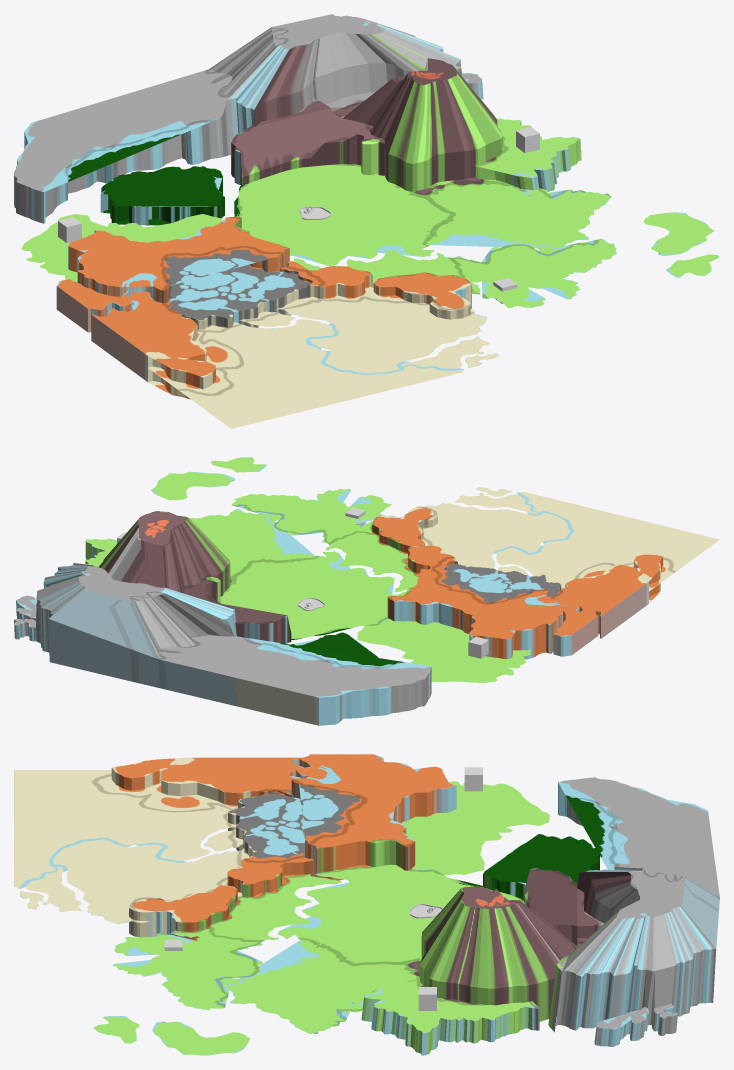
Rendered from Hyrule map .fbx.
The picture shows the model from 3 angles, top to bottom: view 1: azimuth 30°, elevation 25°; view 2: azimuth 150°, elevation 25°; view 3: azimuth 270°, elevation 25°; orthographic projection. The views are drawn at different scales.
Parts seen in each view (by area): view 1: Plane.008, Plane.010, Plane.002, Plane.004, Plane.006, Plane.003, Plane.007, Plane.005, Plane.009; view 2: Plane.008, Plane.010, Plane.004, Plane.002, Plane.006, Plane.003, Plane.005, Plane.007, Plane.009; view 3: Plane.008, Plane.010, Plane.004, Plane.002, Plane.006, Plane.003, Plane.009, Plane.005, Plane.007.
Boxes of the visible parts, bbox=[...] form: Plane.008: bbox=[14, 14, 483, 223]; Plane.010: bbox=[21, 163, 611, 282]; Plane.002: bbox=[148, 286, 498, 428]; Plane.004: bbox=[56, 217, 471, 399]; Plane.006: bbox=[231, 58, 502, 191]; Plane.003: bbox=[294, 212, 719, 307]; Plane.007: bbox=[100, 166, 224, 225]; Plane.005: bbox=[168, 264, 310, 329]; Plane.009: bbox=[475, 118, 581, 191]; Plane.008: bbox=[14, 563, 431, 725]; Plane.010: bbox=[190, 508, 530, 682]; Plane.004: bbox=[371, 506, 663, 659]; Plane.002: bbox=[422, 487, 719, 591]; Plane.006: bbox=[98, 511, 291, 643]; Plane.003: bbox=[151, 457, 418, 592]; Plane.005: bbox=[446, 563, 561, 596]; Plane.007: bbox=[291, 632, 378, 657]; Plane.009: bbox=[85, 538, 116, 566]; Plane.008: bbox=[548, 777, 719, 1046]; Plane.010: bbox=[228, 781, 549, 1033]; Plane.004: bbox=[111, 754, 456, 940]; Plane.002: bbox=[14, 770, 249, 924]; Plane.006: bbox=[420, 868, 603, 1021]; Plane.003: bbox=[93, 873, 341, 1055]; Plane.009: bbox=[361, 979, 539, 1055]; Plane.005: bbox=[228, 791, 304, 858]; Plane.007: bbox=[483, 834, 599, 898].
Size of the model in its own units: 14.03 by 2.4 by 14.65.
